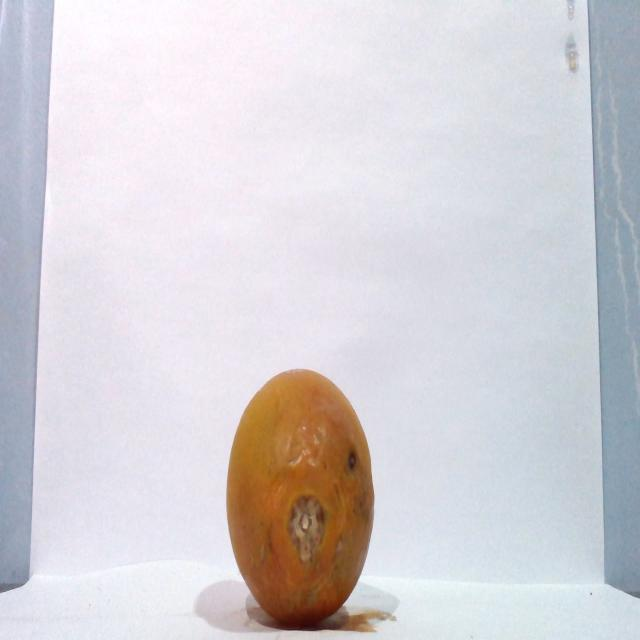Red: (224, 366, 375, 627)
